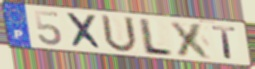5: (33, 10, 63, 47)
L: (139, 17, 174, 58)
T: (210, 25, 239, 61)
U: (99, 13, 140, 54)
X: (168, 20, 215, 61), (63, 11, 105, 52)
